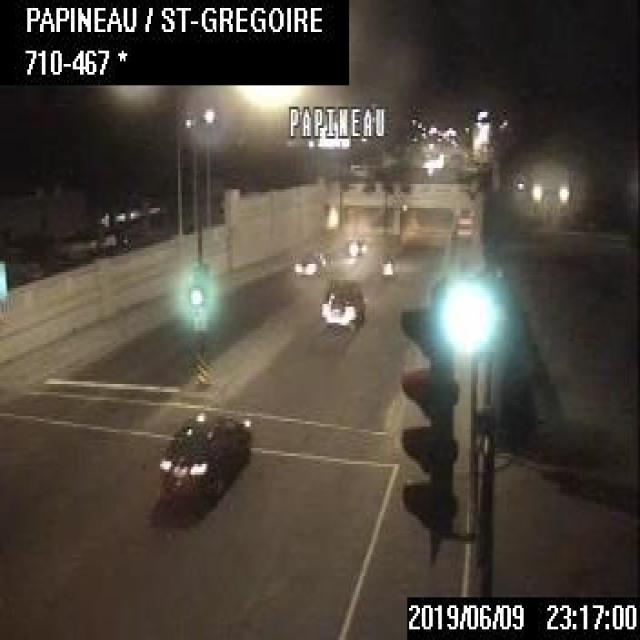vehicle: (154, 408, 251, 496), (320, 283, 364, 325), (291, 243, 324, 272), (346, 235, 368, 253)
